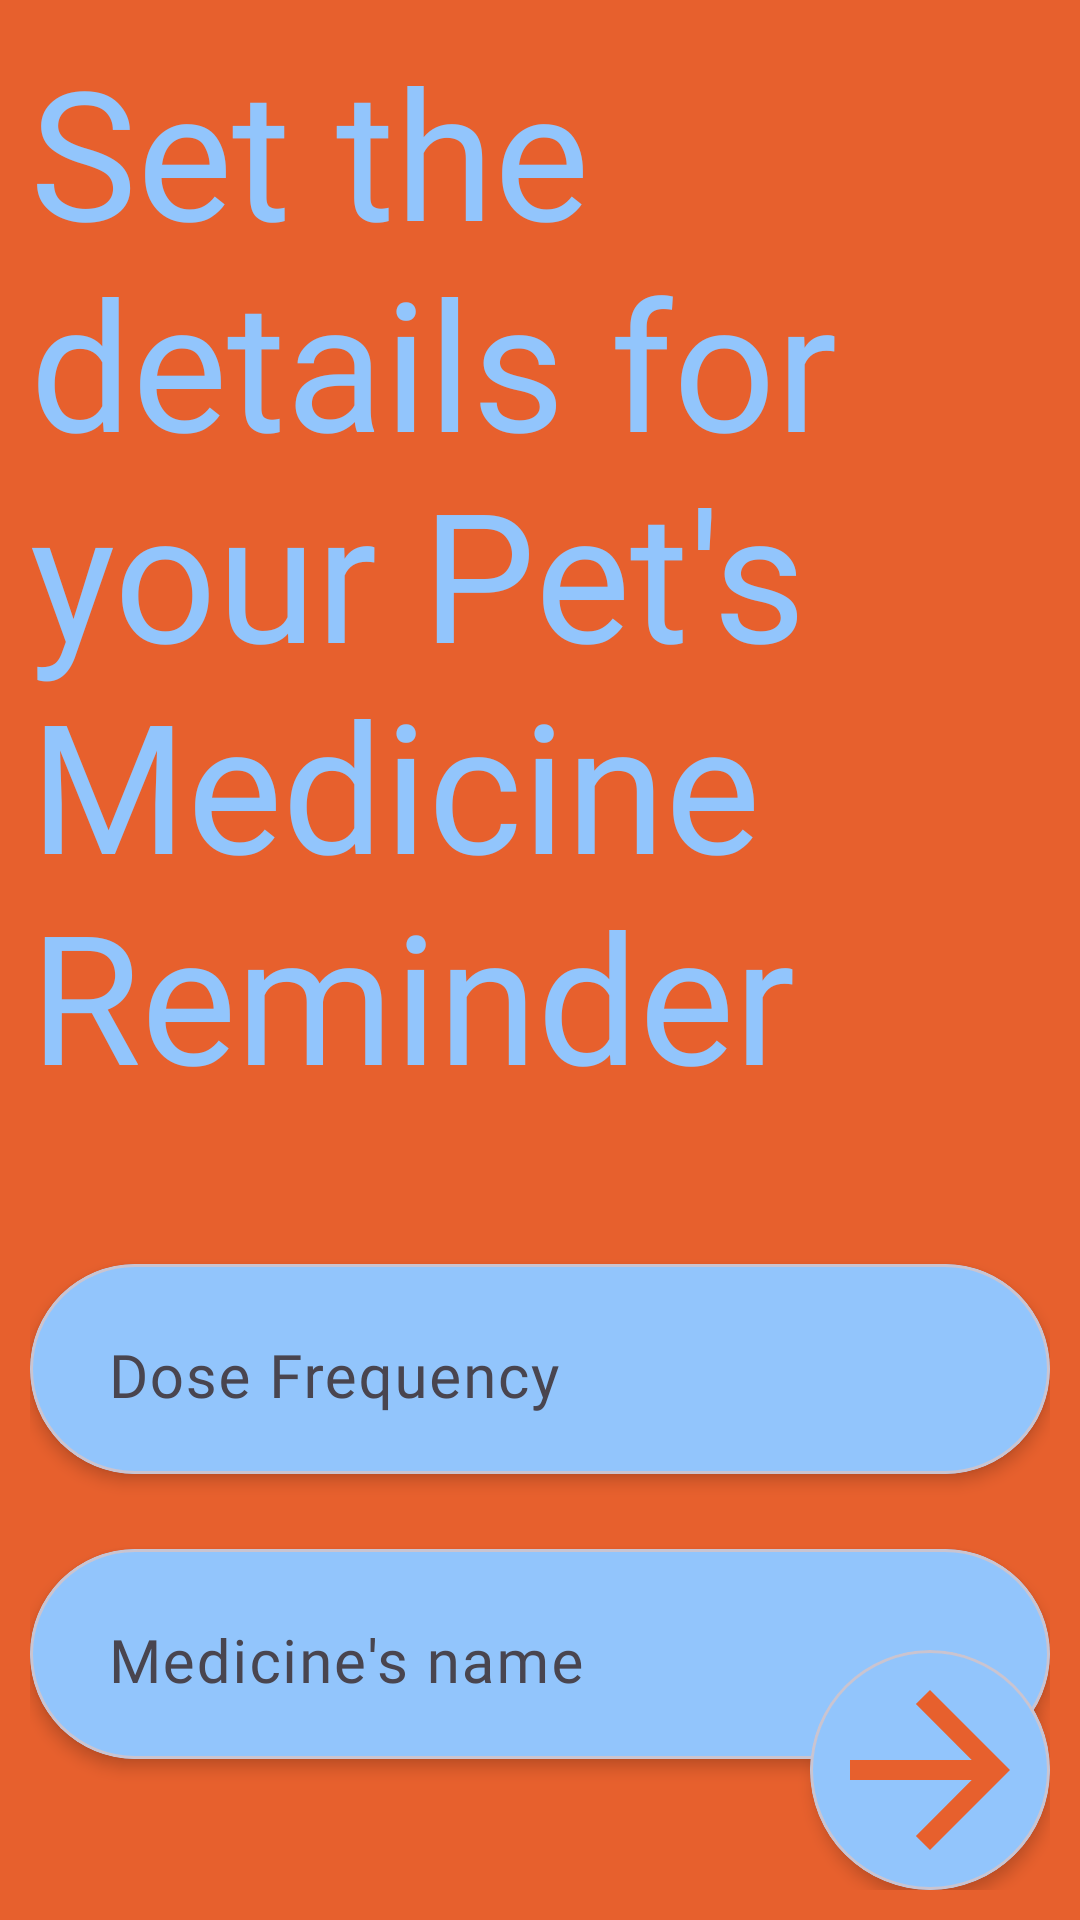

Where to tap for icons on this 1080px x 1920px app screen, as (x,y):
arrow forward: (930,1770)
